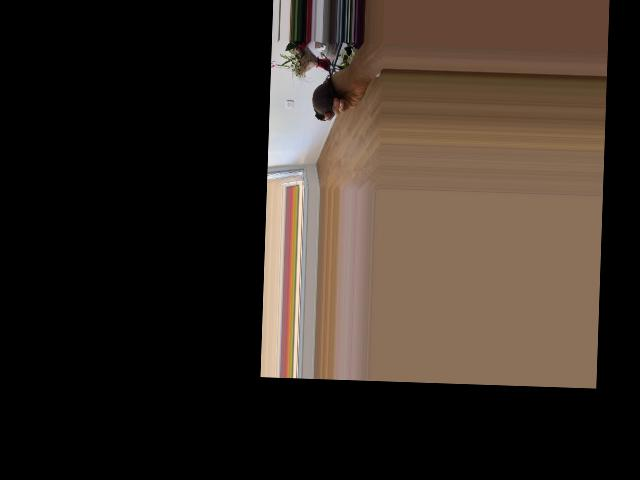beet: (311, 53, 337, 121)
